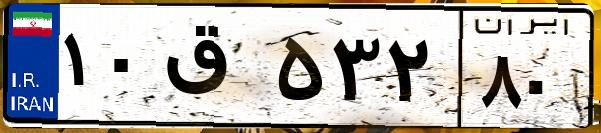0: (525, 38, 570, 115), (110, 28, 158, 98)
1: (57, 26, 110, 100)
2: (385, 28, 445, 110)
3: (330, 28, 385, 110)
5: (270, 28, 330, 110)
8: (475, 38, 525, 113)
ق: (158, 20, 270, 120)
